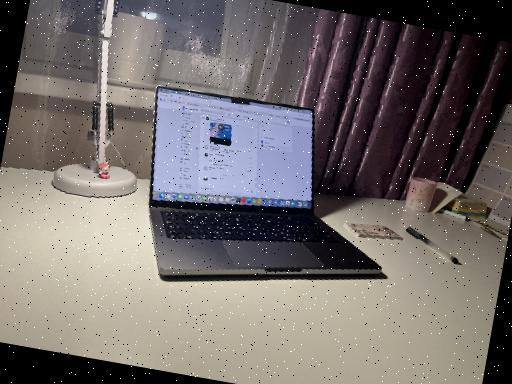vk: (146, 91, 330, 206)
